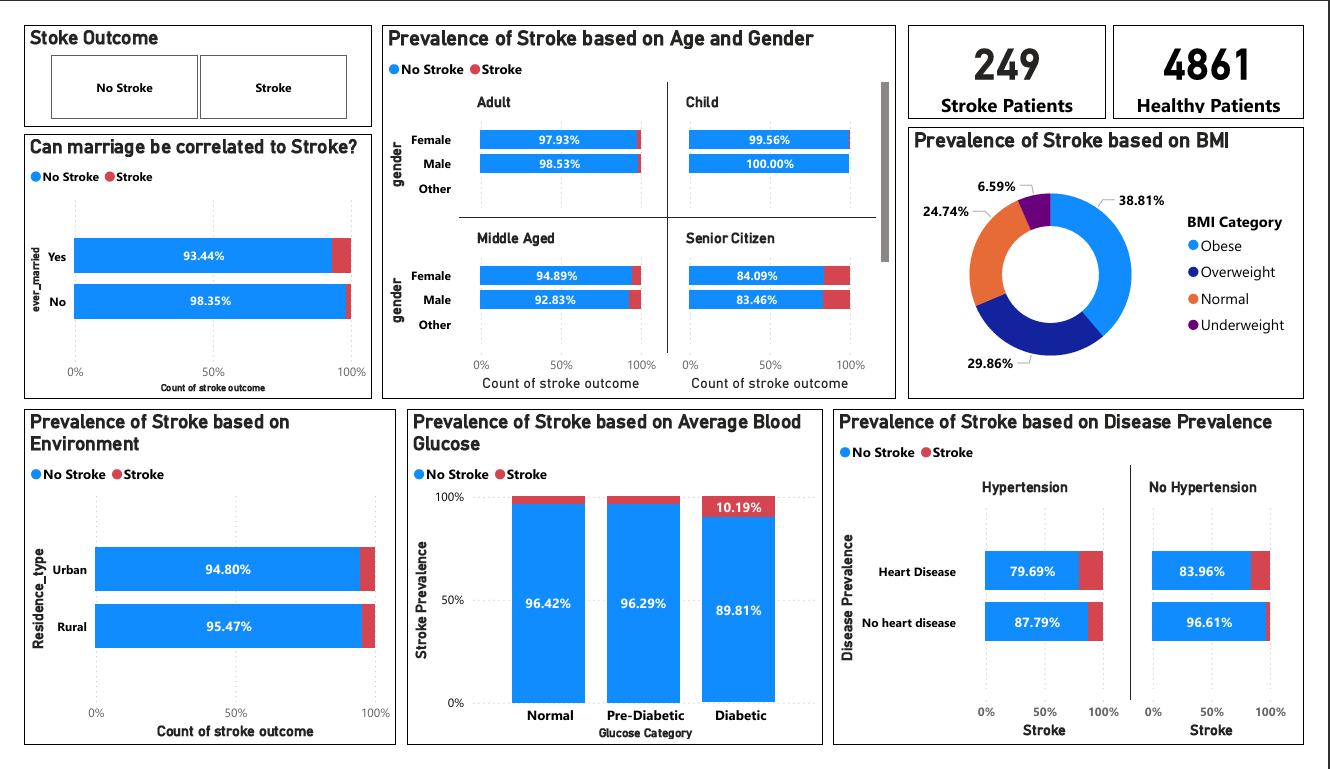

What the dashboard file says about the page in this screenshot:
{"tool":"powerbi","page":{"name":"Stroke Data","canvas":[1280,720],"ordinal":0},"visuals":[{"type":"hundredPercentStackedBarChart","title":"Prevalence of Stroke based on Age and Gender","fields":{"Category":["Stroke Data.gender"],"Y":["CountNonNull(Stroke Data.stroke outcome)"],"Rows":["Stroke Data.Age Group"],"Series":["Stroke Data.stroke outcome"]},"box":[358,0,514.5,373.9],"z":0},{"type":"hundredPercentStackedBarChart","title":"Prevalence of Stroke based on Disease Prevalence","fields":{"Y":["CountNonNull(Stroke Data.stroke outcome)"],"Series":["Stroke Data.stroke outcome"],"Category":["Stroke Data.Heart disease outcome"],"Rows":["Stroke Data.Hypertension outcome"]},"box":[809,384,471,336],"z":1000},{"type":"donutChart","title":"Prevalence of Stroke based on BMI","fields":{"Category":["Stroke Data.BMI Category"],"Y":["CountNonNull(Stroke Data.stroke outcome)"]},"box":[884,102,396,272],"z":2000},{"type":"hundredPercentStackedColumnChart","title":"Prevalence of Stroke based on Average Blood Glucose","fields":{"Y":["CountNonNull(Stroke Data.stroke outcome)"],"Series":["Stroke Data.stroke outcome"],"Category":["Stroke Data.Glucose Category"]},"box":[382.6,384.1,415.9,336.2],"z":3000},{"type":"hundredPercentStackedBarChart","title":"Prevalence of Stroke based on Environment","fields":{"Category":["Stroke Data.Residence_type"],"Y":["CountNonNull(Stroke Data.stroke outcome)"],"Series":["Stroke Data.stroke outcome"]},"box":[0,384.1,372.5,336.2],"z":4000},{"type":"slicer","title":"Stoke Outcome","fields":{"Values":["Stroke Data.stroke outcome"]},"box":[0,0,348,102],"z":5000},{"type":"hundredPercentStackedBarChart","title":"Can marriage be correlated to Stroke?","fields":{"Category":["Stroke Data.ever_married"],"Y":["CountNonNull(Stroke Data.stroke outcome)"],"Series":["Stroke Data.stroke outcome"]},"box":[0,109,348,265],"z":6000},{"type":"card","fields":{"Values":["CountNonNull(Stroke Data.stroke outcome)"]},"box":[884,0,198,94],"z":6001},{"type":"card","fields":{"Values":["CountNonNull(Stroke Data.stroke outcome)"]},"box":[1089,0,191,94],"z":6002}]}

Visuals, with their boxes in screenshot pixels (x1, y1, x2, y2), scaled from the page's 1280x720 canvas onto the 1330x769 screenshot:
"Prevalence of Stroke based on Age and Gender" hundredPercentStackedBarChart: left=372, top=0, right=907, bottom=399
"Prevalence of Stroke based on Disease Prevalence" hundredPercentStackedBarChart: left=841, top=410, right=1329, bottom=768
"Prevalence of Stroke based on BMI" donutChart: left=919, top=109, right=1329, bottom=399
"Prevalence of Stroke based on Average Blood Glucose" hundredPercentStackedColumnChart: left=398, top=410, right=830, bottom=768
"Prevalence of Stroke based on Environment" hundredPercentStackedBarChart: left=0, top=410, right=387, bottom=768
"Stoke Outcome" slicer: left=0, top=0, right=362, bottom=109
"Can marriage be correlated to Stroke?" hundredPercentStackedBarChart: left=0, top=116, right=362, bottom=399
card - CountNonNull(Stroke Data.stroke outcome): left=919, top=0, right=1124, bottom=100
card - CountNonNull(Stroke Data.stroke outcome): left=1132, top=0, right=1329, bottom=100
